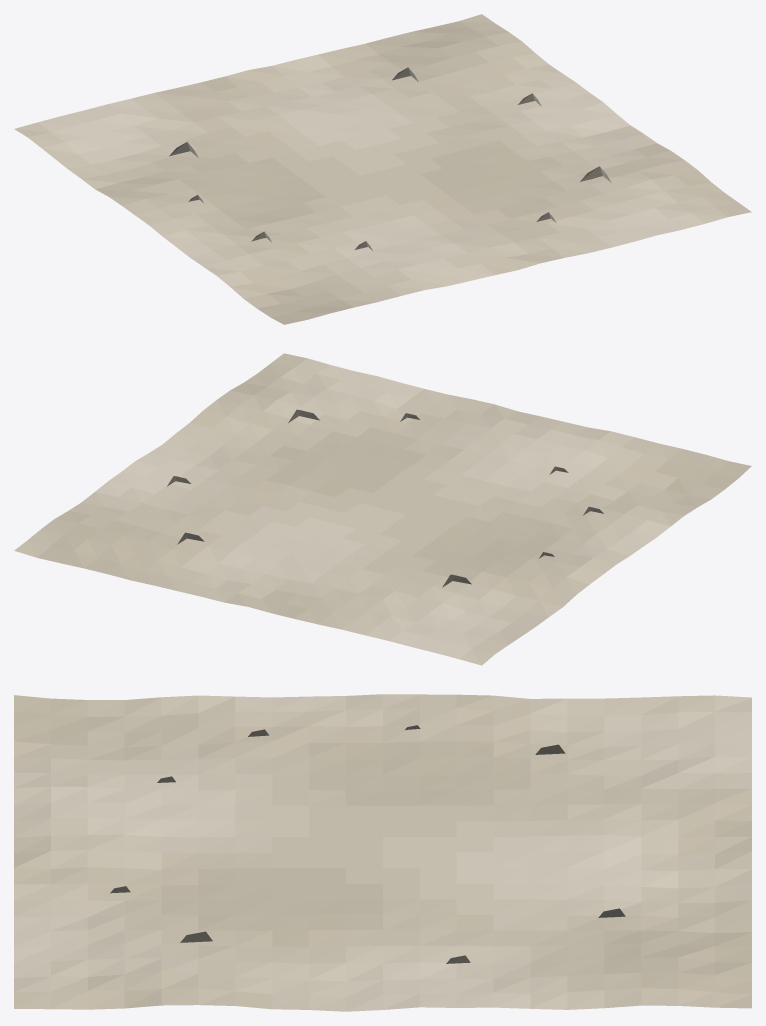
Rendered from low_tide_besiege_ground.glb.
3 views of the same model, one above another, from view 1: azimuth 30°, elevation 25°; view 2: azimuth 150°, elevation 25°; view 3: azimuth 270°, elevation 25° (orthographic). The views are drawn at different scales.
Visible parts, largest first — view 1: sediment_patch_1, sediment_patch_2, sediment_patch_3, sediment_patch_0; view 2: sediment_patch_1, sediment_patch_2, sediment_patch_3, sediment_patch_0; view 3: sediment_patch_1, sediment_patch_2, sediment_patch_3, sediment_patch_0.
Part boxes in pixels (x1,y1,x2,y2): sediment_patch_1: (95, 14, 751, 308); sediment_patch_2: (14, 53, 727, 295); sediment_patch_3: (37, 74, 704, 279); sediment_patch_0: (179, 21, 710, 324); sediment_patch_1: (14, 353, 724, 629); sediment_patch_2: (68, 358, 697, 665); sediment_patch_3: (95, 365, 670, 658); sediment_patch_0: (38, 382, 751, 618); sediment_patch_1: (14, 694, 751, 1009); sediment_patch_2: (14, 694, 751, 1011); sediment_patch_3: (14, 696, 751, 1011); sediment_patch_0: (14, 695, 751, 1008).
Bounding box in the file's own units: 48 × 1.86 × 48.
